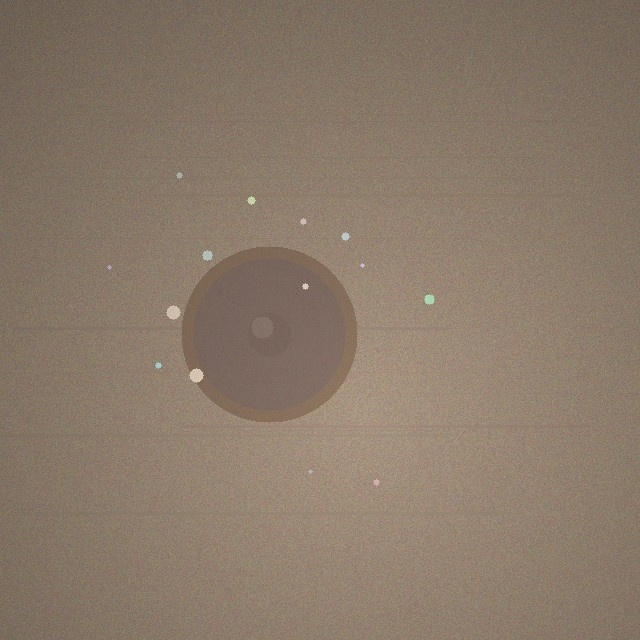overburn: (181, 246, 357, 422)
